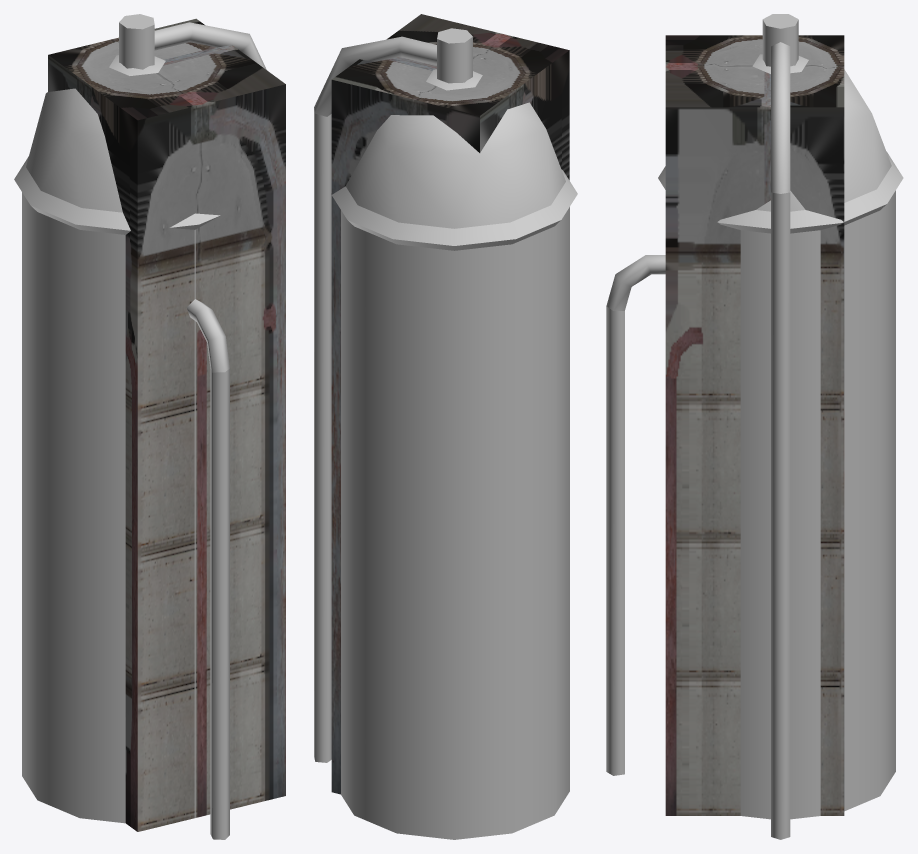
File: dz_industrial_26.fbx
3 views of the same model, side by side, from view 1: azimuth 30°, elevation 25°; view 2: azimuth 150°, elevation 25°; view 3: azimuth 270°, elevation 25° (orthographic).
Parts seen in each view (by area): view 1: dz_industrial_26_LOD0; view 2: dz_industrial_26_LOD0; view 3: dz_industrial_26_LOD0.
Boxes of the visible parts, bbox=[...] form: dz_industrial_26_LOD0: bbox=[14, 14, 285, 839]; dz_industrial_26_LOD0: bbox=[314, 14, 577, 839]; dz_industrial_26_LOD0: bbox=[606, 14, 903, 839].
Size of what is drawn, in the model's own units: 3.05 by 8.9 by 3.19.
